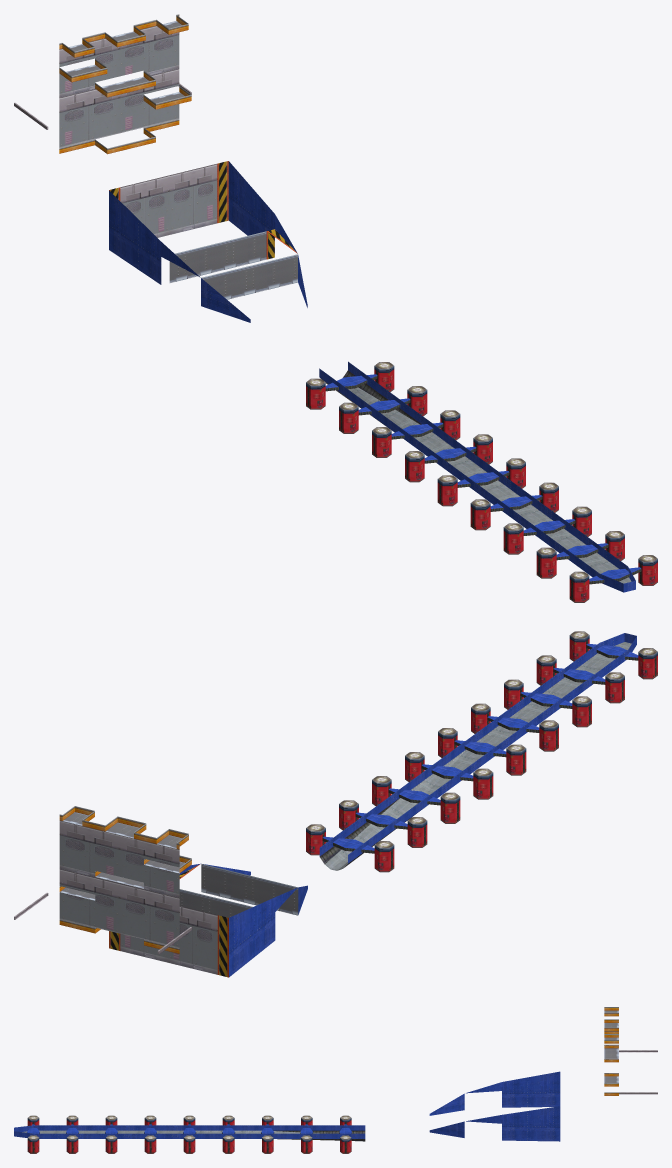
3 views of the same model, one above another, from view 1: azimuth 30°, elevation 25°; view 2: azimuth 150°, elevation 25°; view 3: azimuth 270°, elevation 25° (orthographic). The views are drawn at different scales.
Parts seen in each view (by area): view 1: s13_on_09_2, s13_on_09_10, s13_on_09_7, s13_on_09_11, s13_on_09_8, s13_on_09_0, s13_on_09_6, s13_on_09_4, s13_on_09_3; view 2: s13_on_09_10, s13_on_09_2, s13_on_09_7, s13_on_09_11, s13_on_09_0, s13_on_09_6, s13_on_09_8, s13_on_09_4, s13_on_09_3; view 3: s13_on_09_2, s13_on_09_7, s13_on_09_8, s13_on_09_6, s13_on_09_0, s13_on_09_11, s13_on_09_1.
Part boxes in pixels (box(x1,y1,x2,y2)): s13_on_09_2: box(109, 161, 640, 592); s13_on_09_10: box(59, 26, 217, 237); s13_on_09_7: box(306, 366, 657, 602); s13_on_09_11: box(66, 21, 297, 299); s13_on_09_8: box(14, 14, 191, 154); s13_on_09_0: box(348, 387, 631, 583); s13_on_09_6: box(306, 362, 657, 578); s13_on_09_4: box(325, 375, 641, 584); s13_on_09_3: box(109, 161, 297, 259); s13_on_09_10: box(59, 820, 217, 974); s13_on_09_2: box(179, 633, 638, 977); s13_on_09_7: box(306, 635, 657, 872); s13_on_09_11: box(60, 812, 298, 917); s13_on_09_0: box(325, 642, 631, 870); s13_on_09_6: box(306, 631, 657, 848); s13_on_09_8: box(14, 806, 191, 954); s13_on_09_4: box(322, 645, 638, 853); s13_on_09_3: box(109, 864, 228, 977); s13_on_09_2: box(14, 1071, 560, 1141); s13_on_09_7: box(27, 1118, 351, 1153); s13_on_09_8: box(604, 1007, 657, 1095); s13_on_09_6: box(28, 1115, 351, 1139); s13_on_09_0: box(22, 1130, 364, 1141); s13_on_09_11: box(604, 1010, 618, 1082); s13_on_09_1: box(273, 1130, 365, 1141).
Size of the model in its own units: 508 by 670 by 3300.
12 materials, 12 textured.
